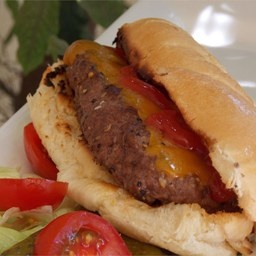background: (0, 6, 102, 102)
